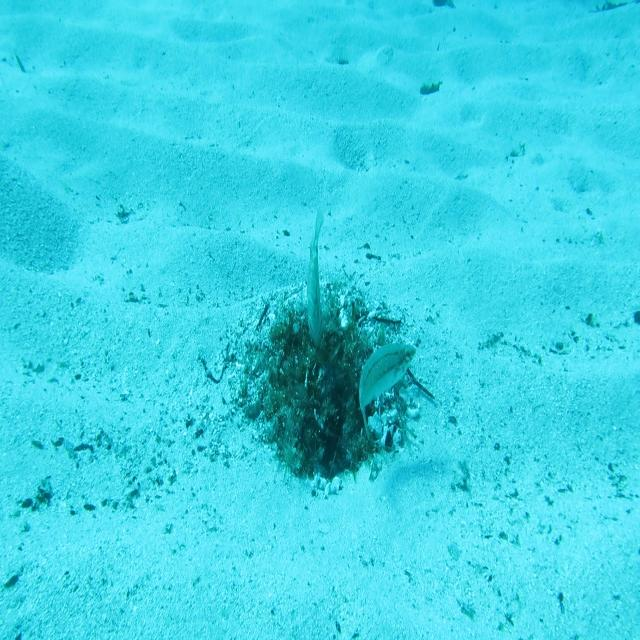NIP_CORE: (304, 203, 328, 354)
core_nest: (297, 328, 341, 380)
female: (355, 340, 420, 442)
nest: (219, 252, 434, 506)
vegetation: (418, 79, 445, 98)
